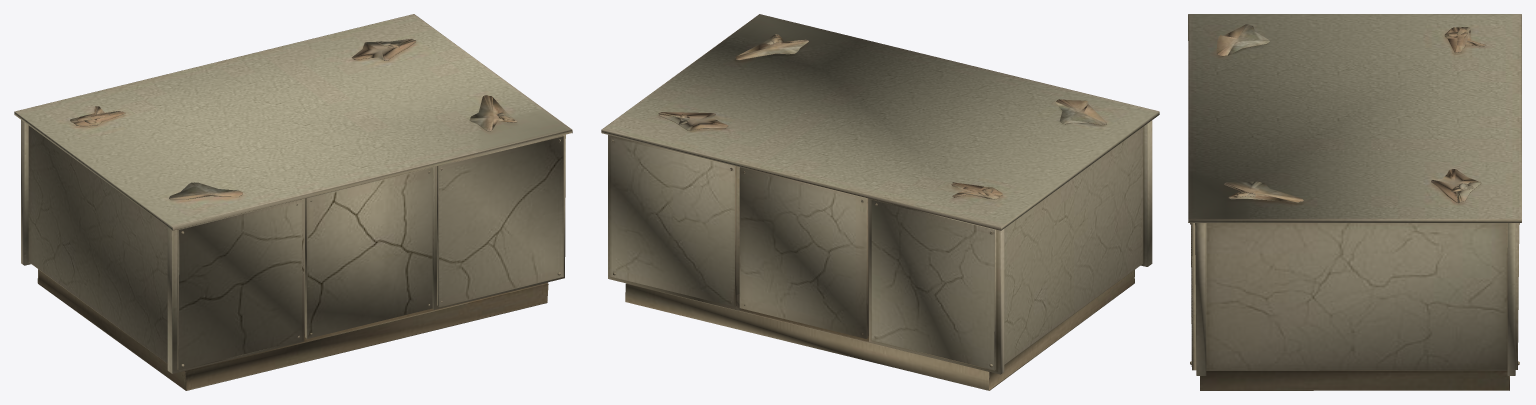
Rendered from office-reception-desk.glb.
3 renders of one model, left to right at view 1: azimuth 30°, elevation 25°; view 2: azimuth 150°, elevation 25°; view 3: azimuth 270°, elevation 25°, orthographic. The views are drawn at different scales.
Parts seen in each view (by area): view 1: reception-desk; view 2: reception-desk; view 3: reception-desk.
Part boxes in pixels (x1,y1,x2,y2): reception-desk: [14, 14, 572, 390]; reception-desk: [601, 14, 1159, 390]; reception-desk: [1188, 14, 1521, 390].
Bounding box in the file's own units: 2.6 × 1.12 × 1.78.
Materials: 1 (1 with a texture image).
